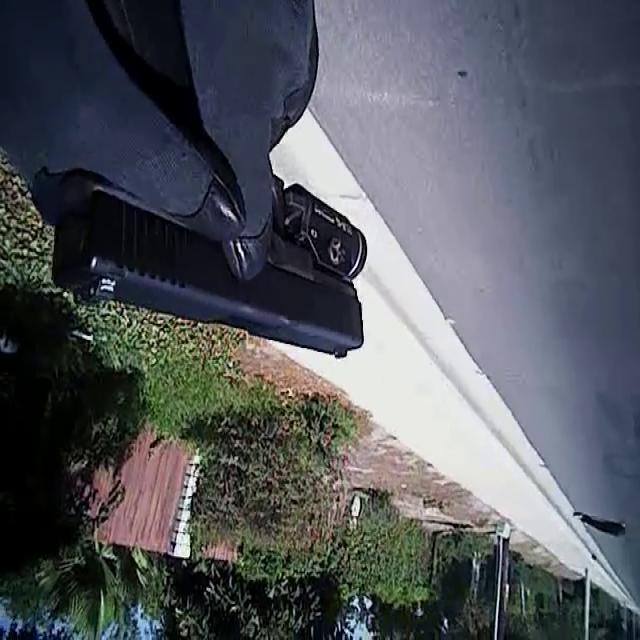gun: (37, 56, 383, 387)
